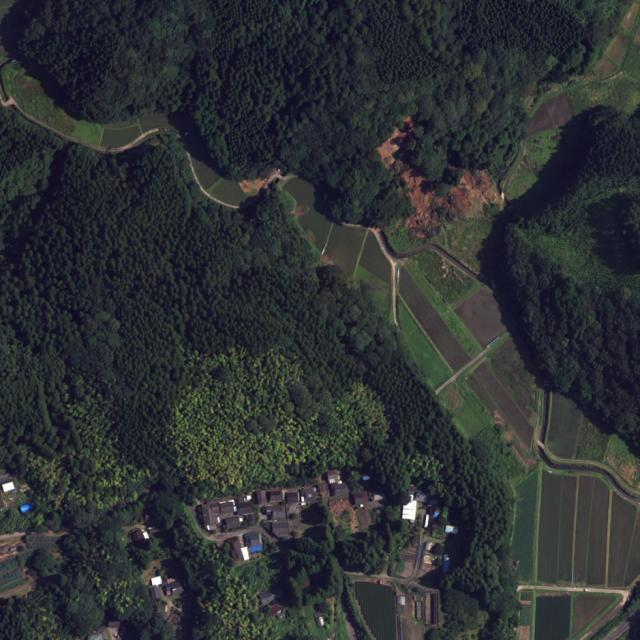landslide: (379, 119, 503, 238)
